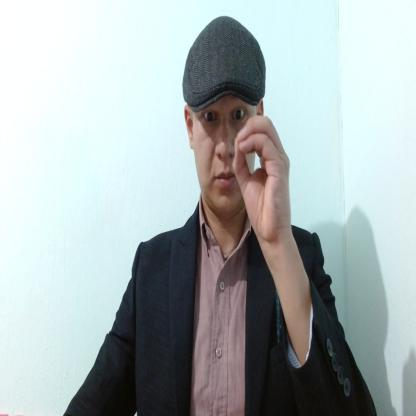O: (232, 112, 293, 246)
